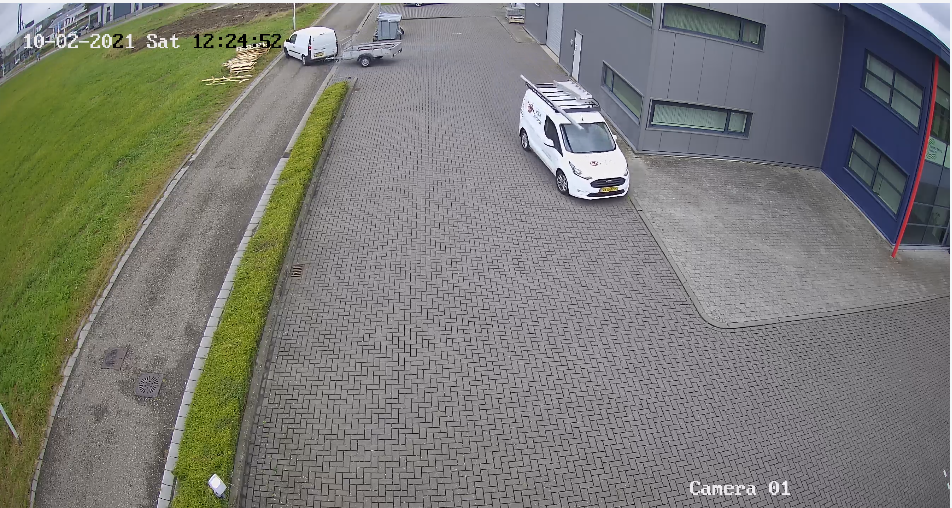werkbus: (497, 68, 652, 209), (279, 12, 347, 77)
